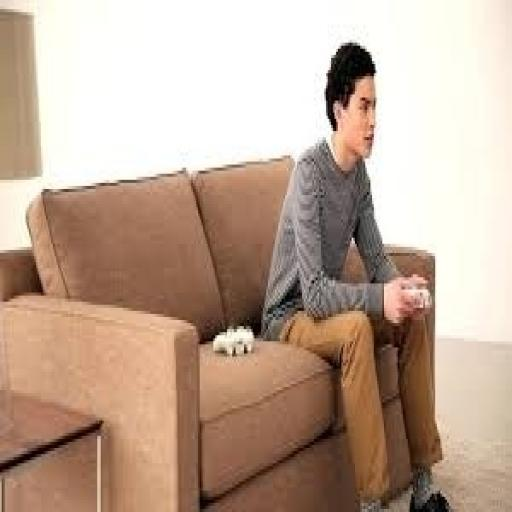sitting: (259, 37, 454, 509)
